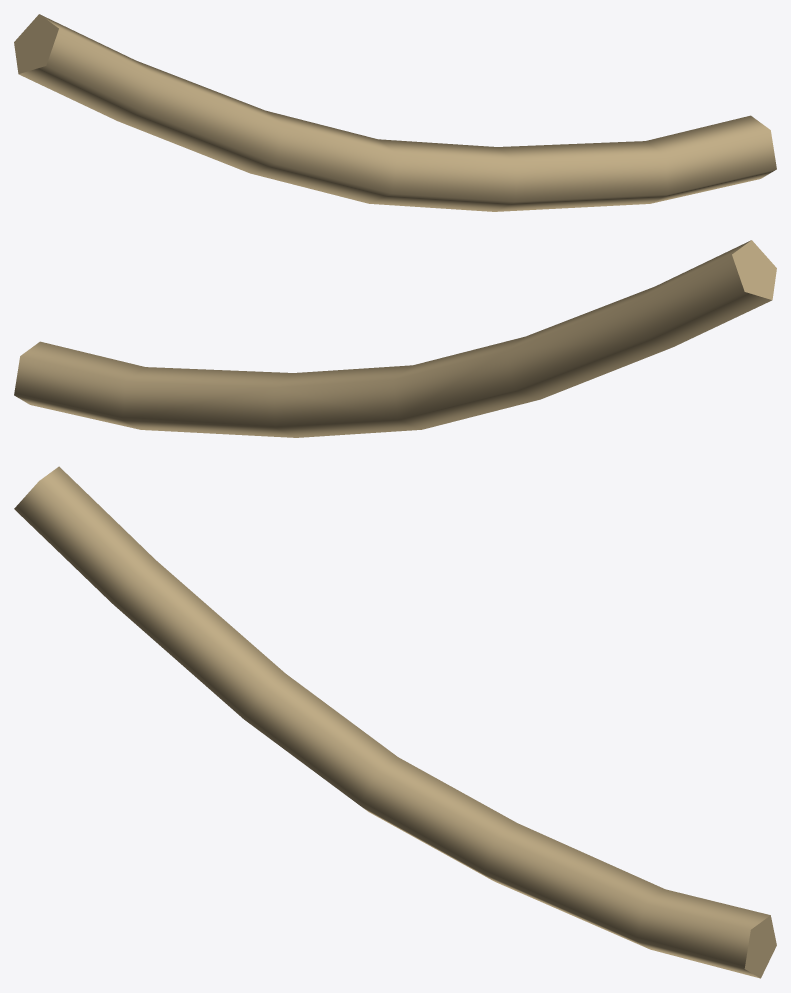
Rendered from bridge_rope_05.fbx.
3 views of the same model, one above another, from view 1: azimuth 30°, elevation 25°; view 2: azimuth 150°, elevation 25°; view 3: azimuth 330°, elevation 25° (orthographic).
Visible parts, largest first — view 1: bridge_rope_05; view 2: bridge_rope_05; view 3: bridge_rope_05.
Boxes of the visible parts, left/top/right/bottom form: bridge_rope_05: left=14, top=14, right=776, bottom=211; bridge_rope_05: left=14, top=240, right=776, bottom=437; bridge_rope_05: left=14, top=466, right=776, bottom=978.
Bounding box in the file's own units: 77.53 × 33.06 × 5.84.
